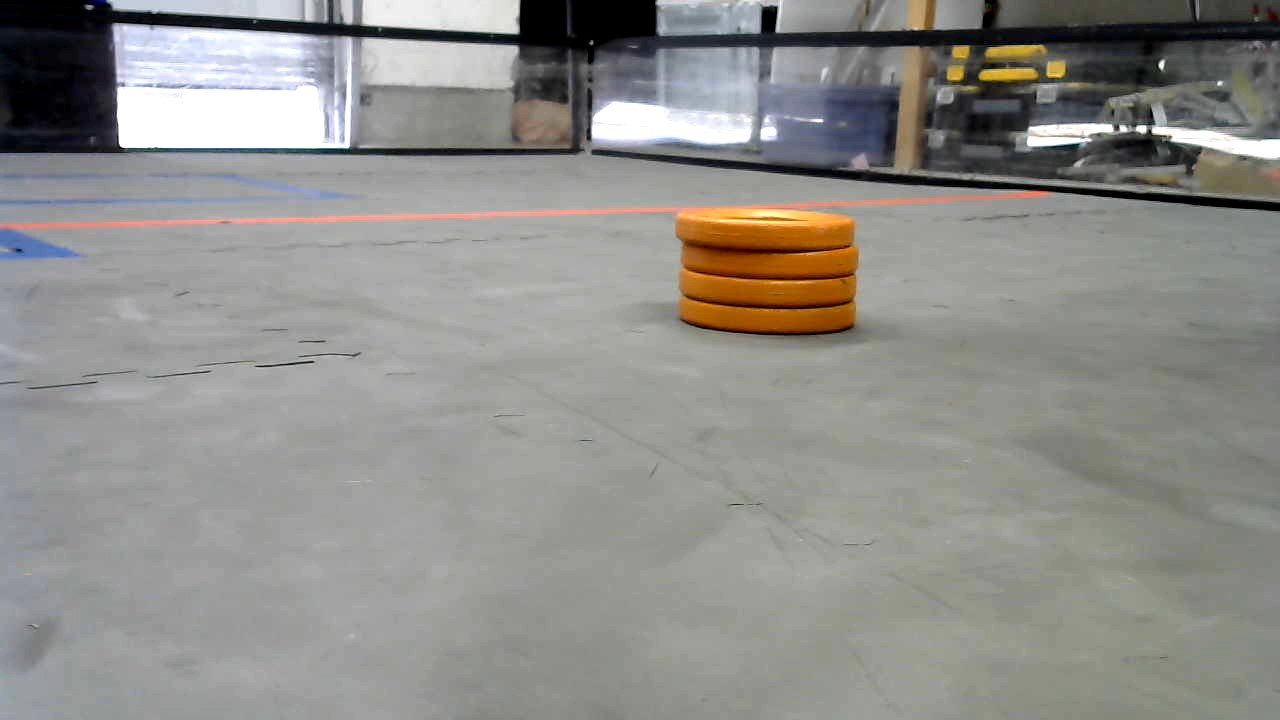FourStack: (674, 209, 859, 330)
